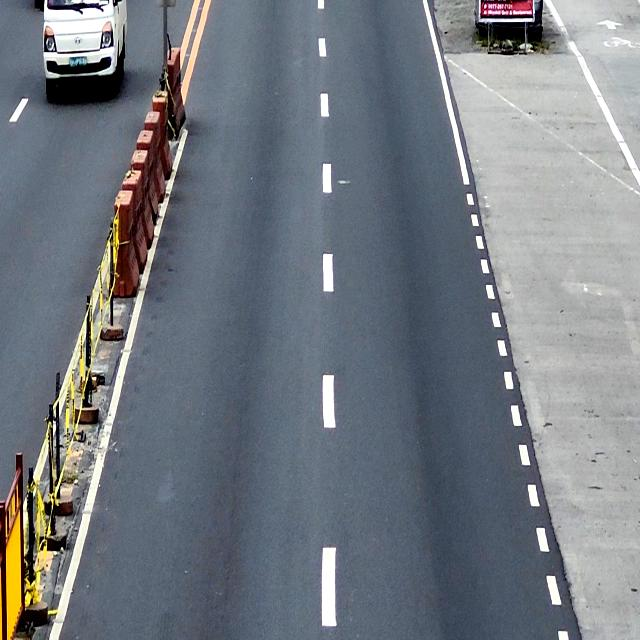Car: (41, 0, 128, 95)
License-Plate: (69, 56, 87, 68)
